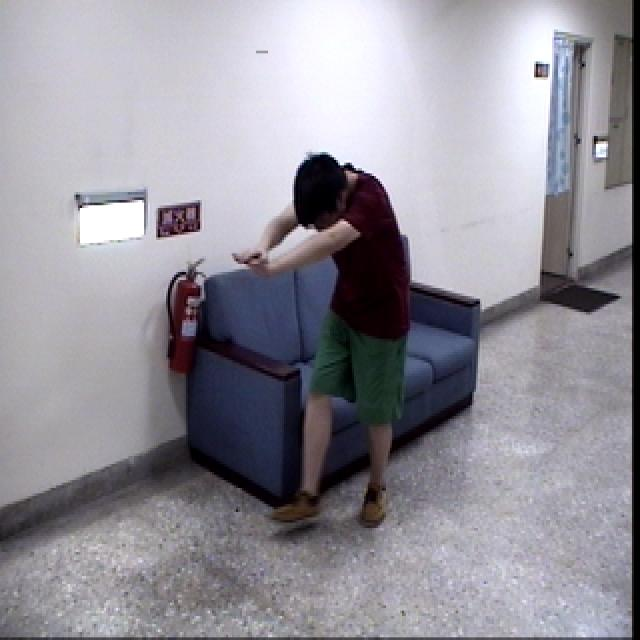bend: (230, 149, 417, 533)
